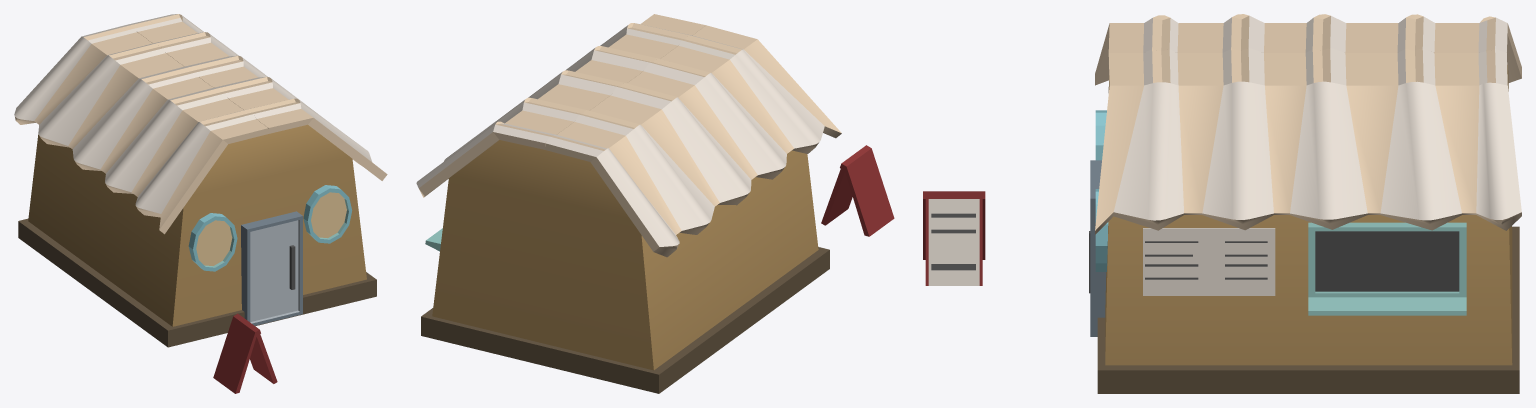
File: donut_shop_noDonut.fbx
The picture shows the model from 3 angles, left to right: view 1: azimuth 30°, elevation 25°; view 2: azimuth 150°, elevation 25°; view 3: azimuth 270°, elevation 25°; orthographic projection. The views are drawn at different scales.
Visible parts, largest first — view 1: polySurface453; view 2: polySurface453; view 3: polySurface453.
Boxes of the visible parts, box(x1,y1,x2,y2) form: polySurface453: box(14, 14, 387, 393); polySurface453: box(416, 14, 894, 393); polySurface453: box(923, 14, 1521, 393).
Bounding box in the file's own units: 8.85 × 7.11 × 13.86.
